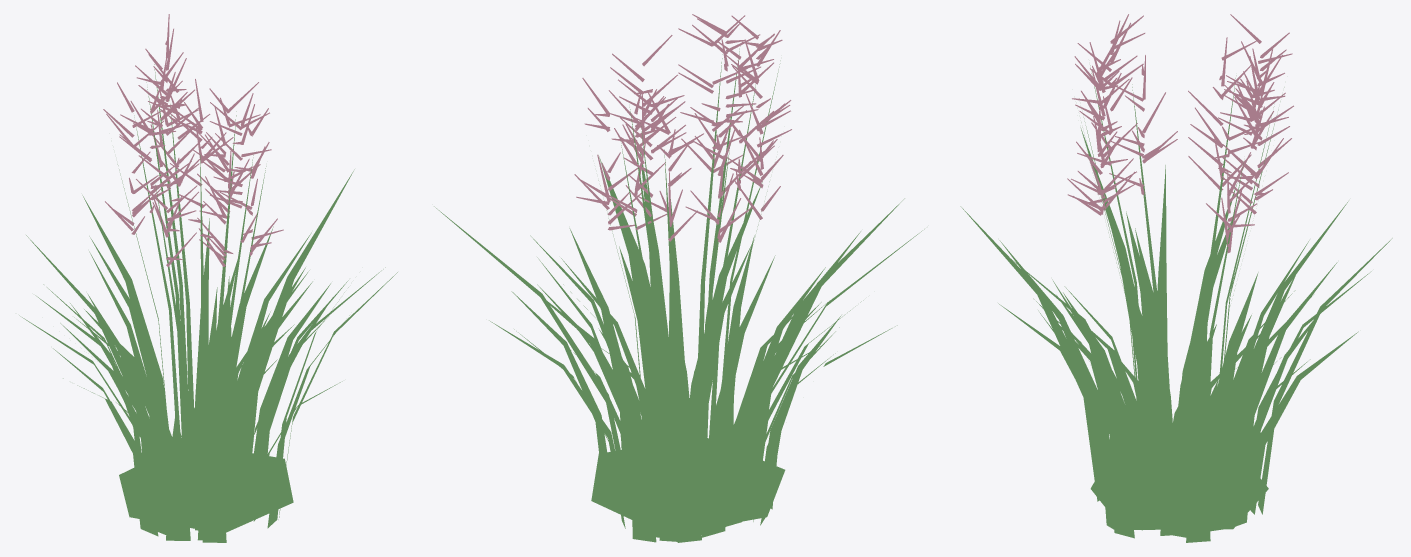
The model's file is Blender_Switchgrass_2.glb.
3 views of the same model, side by side, from view 1: azimuth 30°, elevation 25°; view 2: azimuth 150°, elevation 25°; view 3: azimuth 270°, elevation 25° (orthographic). The views are drawn at different scales.
Visible parts, largest first — view 1: Blender_Switchgrass_2; view 2: Blender_Switchgrass_2; view 3: Blender_Switchgrass_2.
Boxes of the visible parts, x1,y1,x2,y2 form: Blender_Switchgrass_2: (19, 14, 397, 542); Blender_Switchgrass_2: (434, 14, 924, 542); Blender_Switchgrass_2: (960, 14, 1392, 542).
Bounding box in the file's own units: 1.13 × 1.33 × 1.08.
